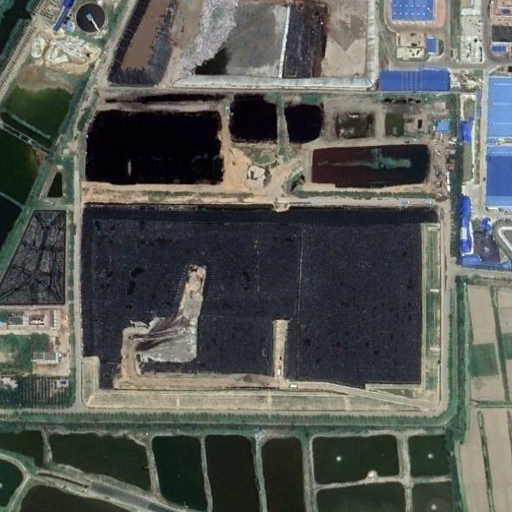lf: (82, 204, 441, 388)
